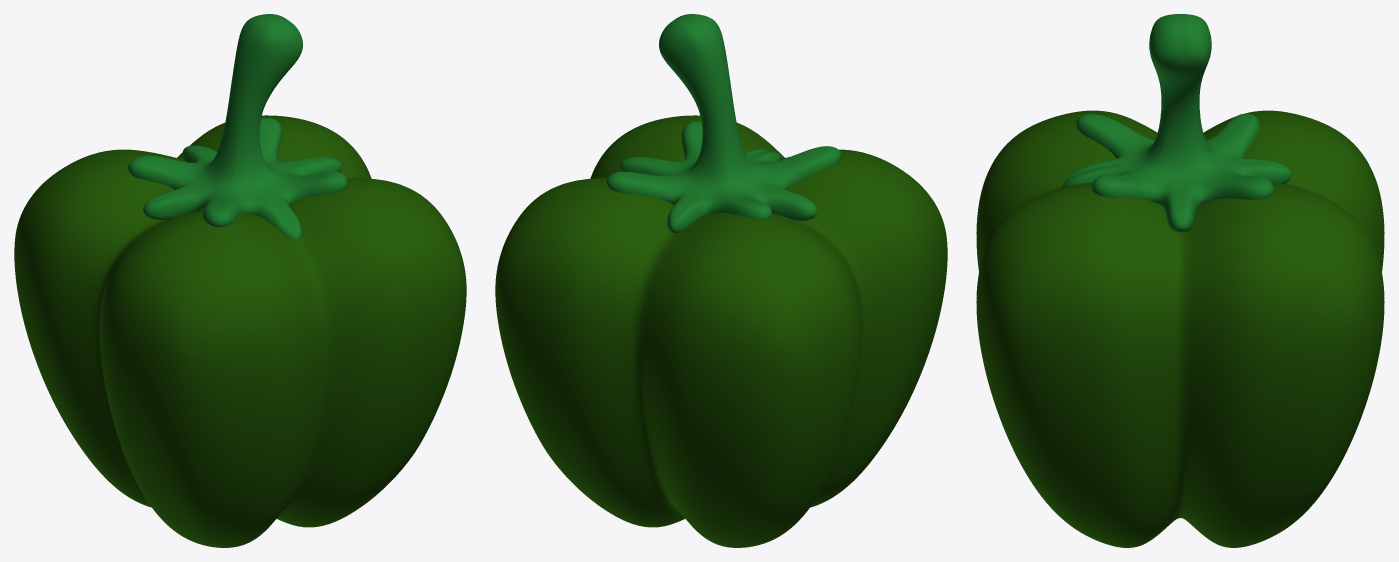
Rendered from green paprika.fbx.
3 renders of one model, left to right at view 1: azimuth 30°, elevation 25°; view 2: azimuth 150°, elevation 25°; view 3: azimuth 270°, elevation 25°, orthographic. The views are drawn at different scales.
Visible parts, largest first — view 1: Cube, Cube.002; view 2: Cube, Cube.002; view 3: Cube, Cube.002.
Part boxes in pixels (x1,y1,x2,y2): Cube: (14, 115, 466, 547); Cube.002: (128, 14, 347, 239); Cube: (495, 115, 947, 547); Cube.002: (606, 14, 841, 233); Cube: (976, 110, 1384, 547); Cube.002: (1063, 14, 1291, 232).
Bounding box in the file's own units: 151 × 212 × 151.
